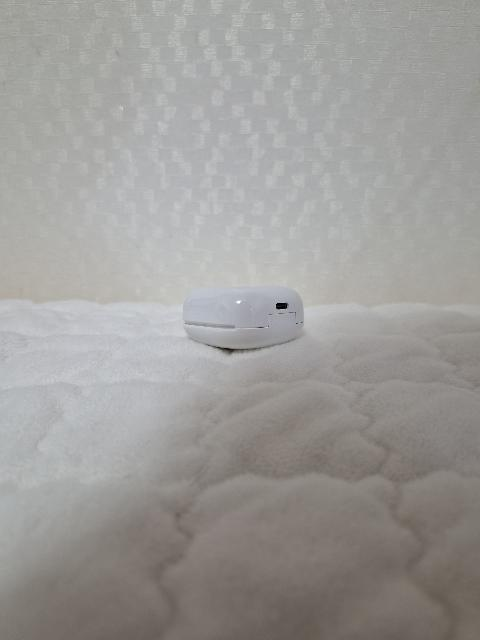earphone_case: (183, 286, 304, 349)
